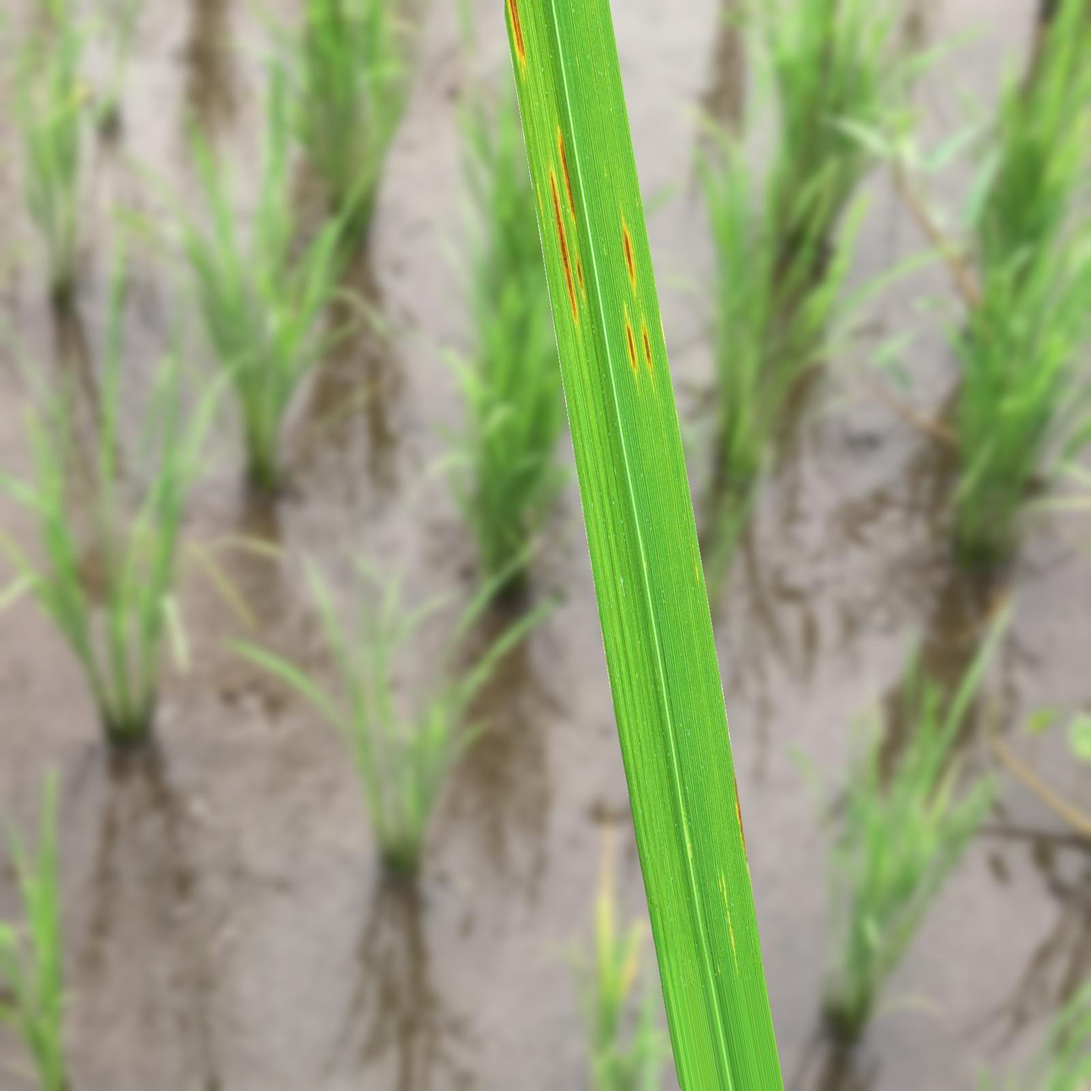LEAF: (505, 0, 783, 1090)
NBS: (550, 169, 578, 323), (558, 128, 575, 222), (507, 0, 526, 68), (623, 224, 634, 290), (627, 318, 637, 373), (642, 324, 653, 373), (577, 258, 584, 295)
